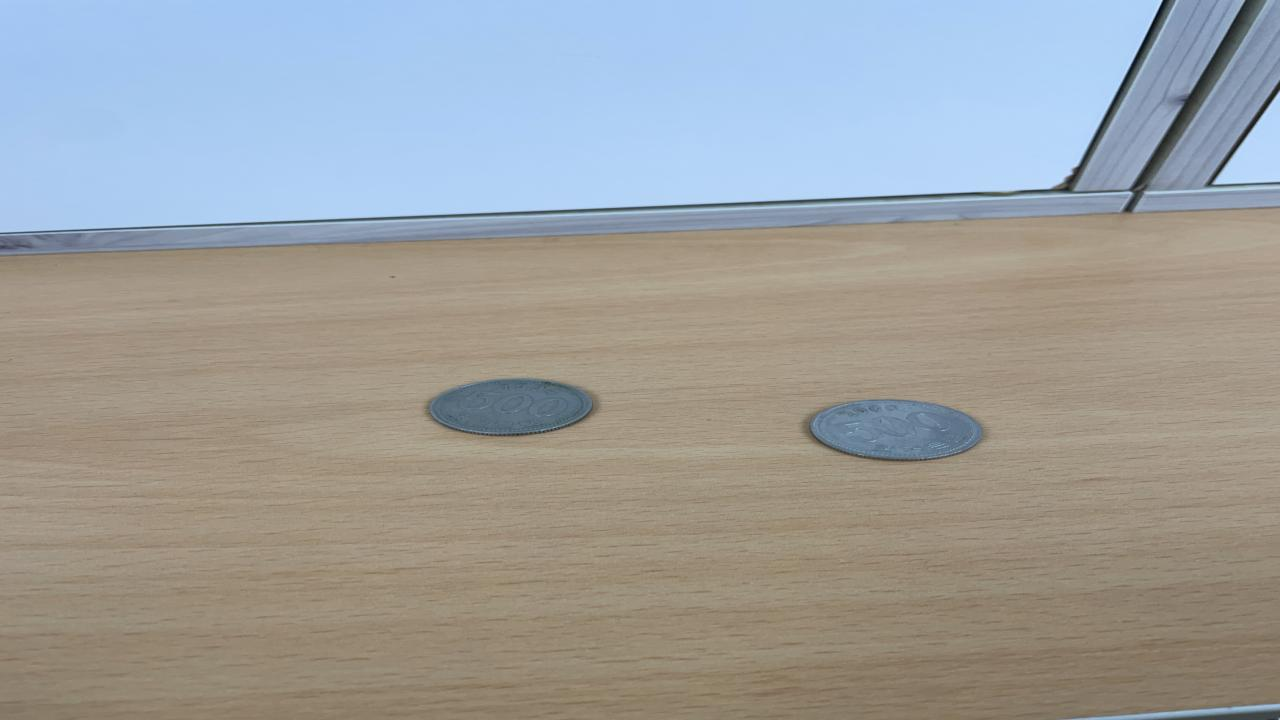coin: (809, 397, 986, 461), (422, 377, 596, 438)
